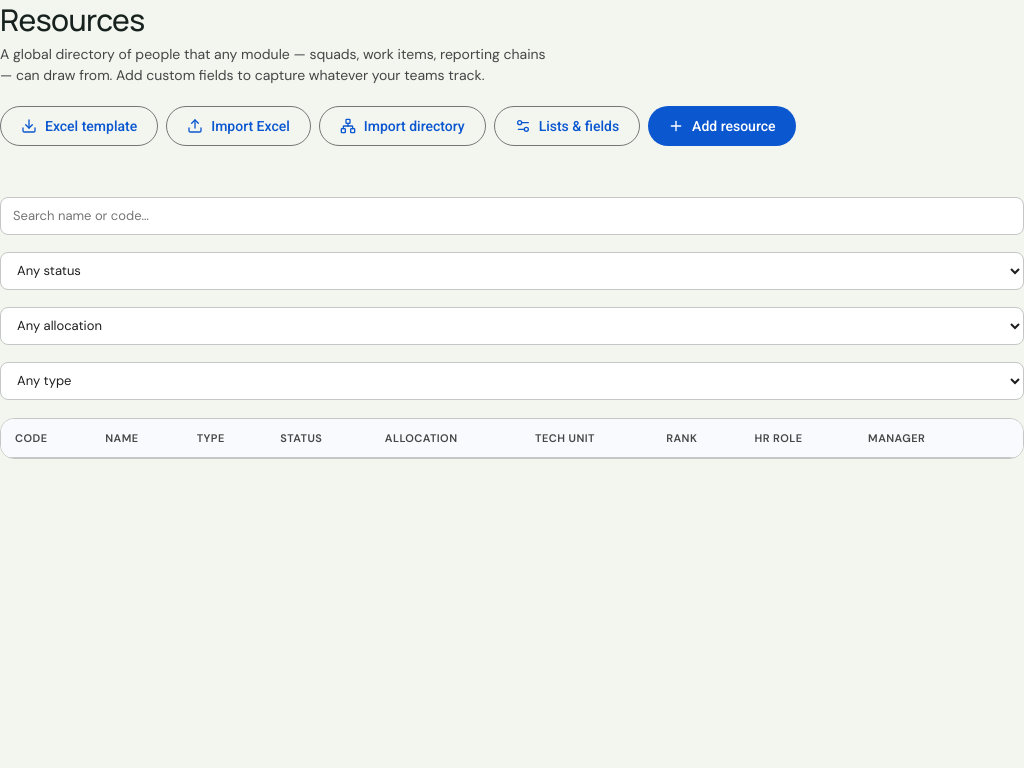
Test: supports a single LDAP user lookup by username or email
Step 1. Click the button "Import directory" → (402, 126), box [319,106,486,146]
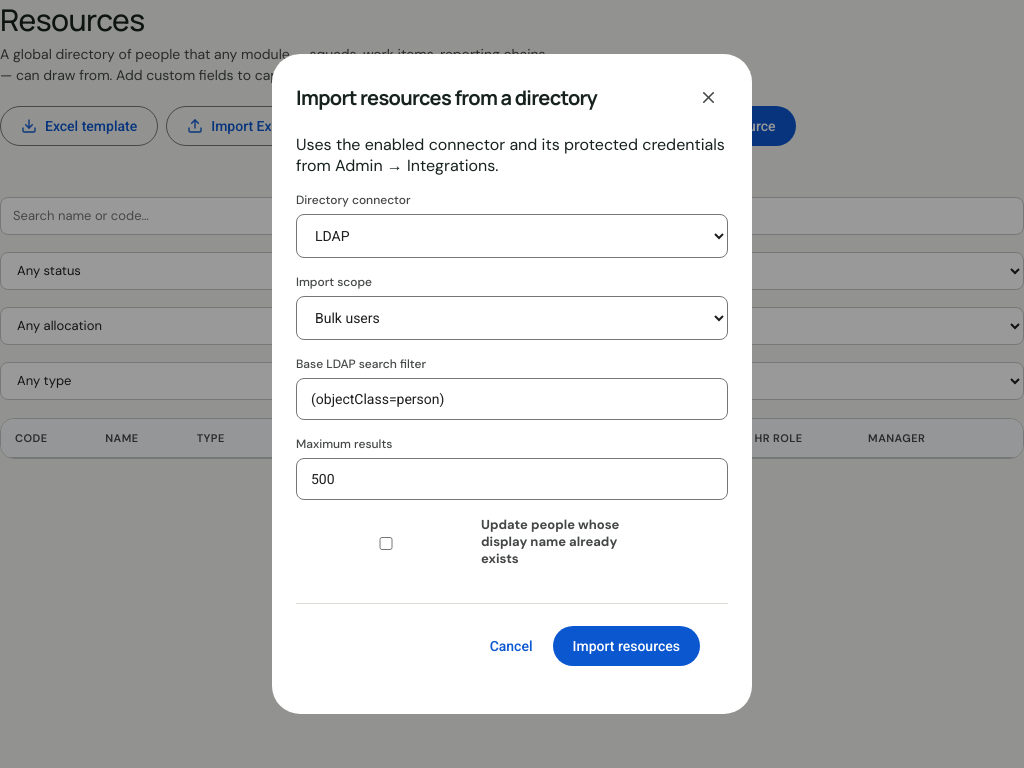
Step 2. Select "Single user" in the dropdown labelled "Import scope" → (512, 318), box [296,296,728,340]
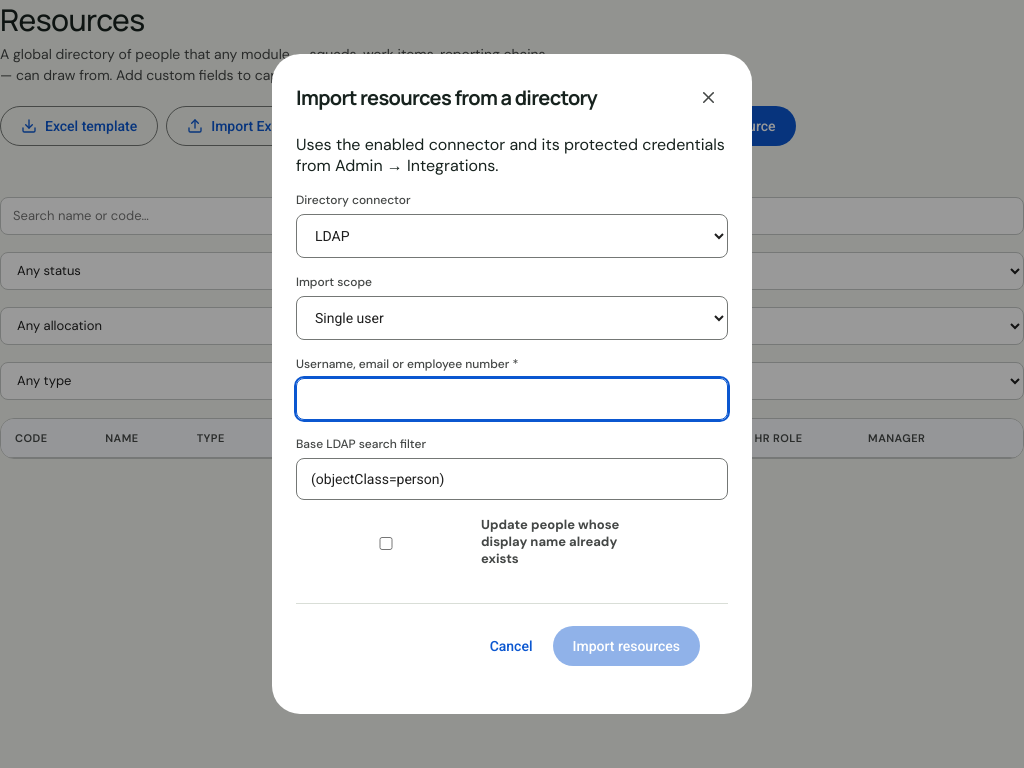
Step 3. Type "ada@example.com" into the field labelled "Username, email or employee number *" → (512, 399), box [296,378,728,420]
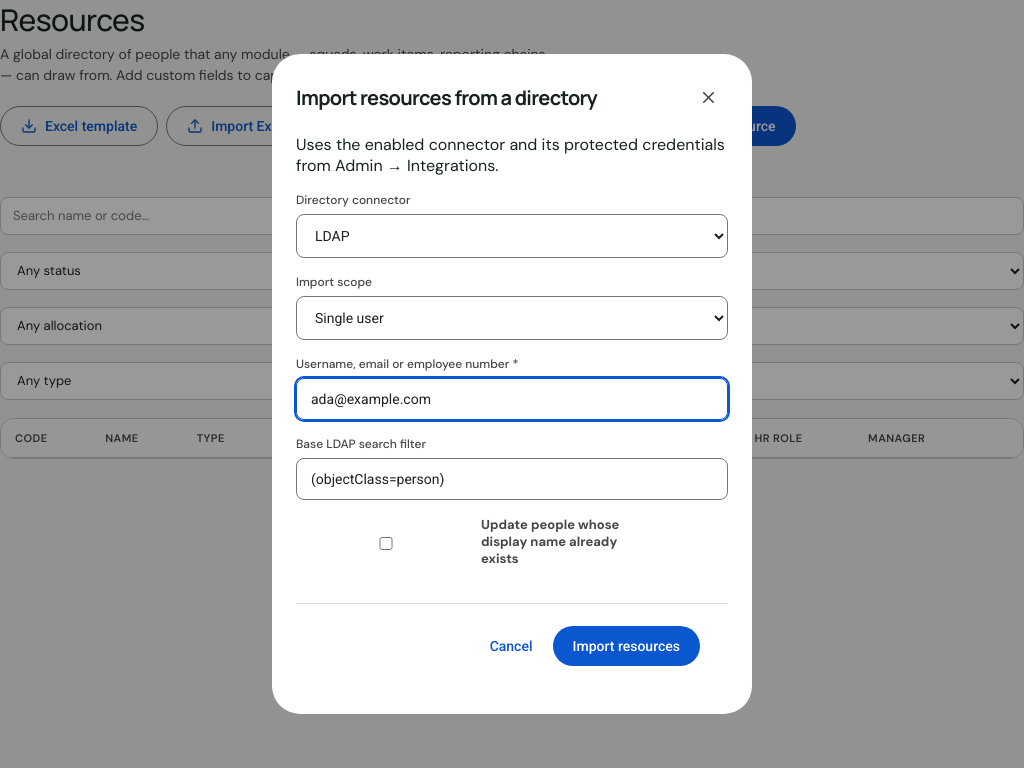
Step 4. Click the button "Import resources" → (626, 646), box [552,626,700,666]
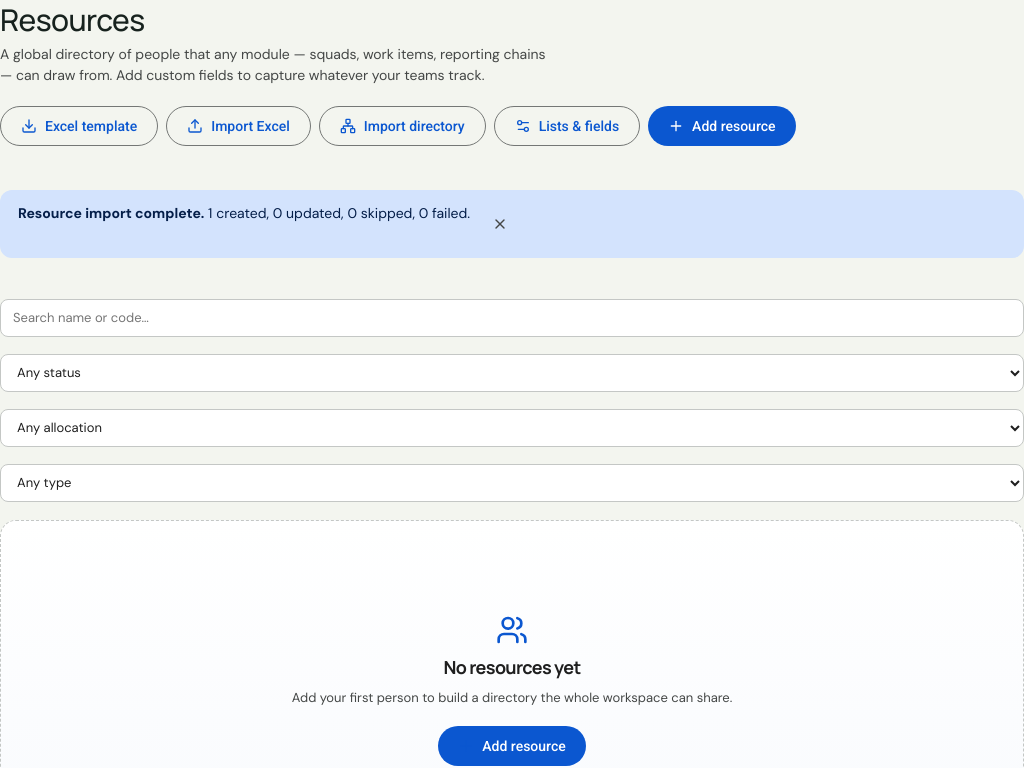
Result: the message shows "1 created" at [0,190,1023,258]
